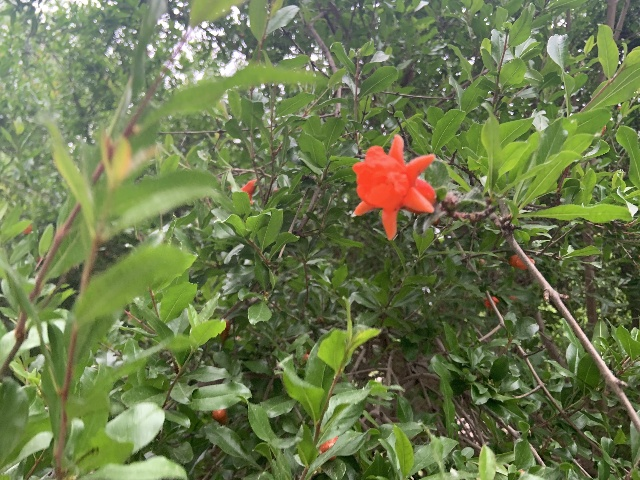bud: (320, 436, 339, 459), (510, 254, 534, 269), (212, 409, 227, 425), (220, 319, 230, 341)
flower: (352, 133, 436, 239), (240, 179, 256, 203), (482, 296, 499, 307)
